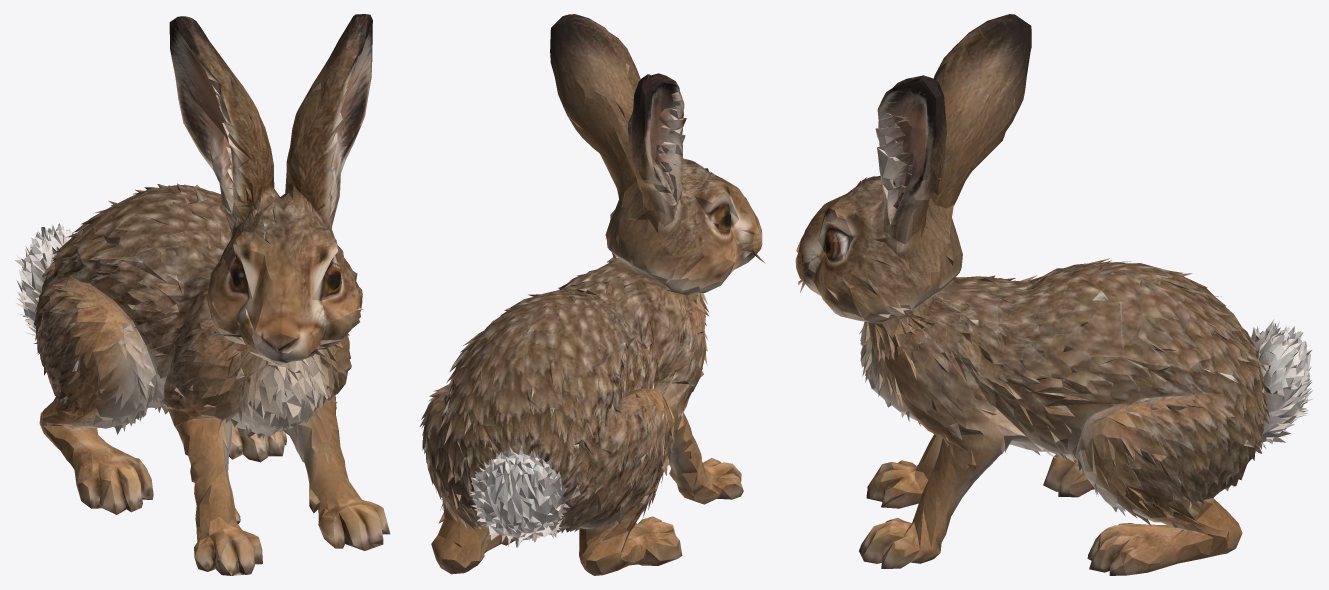
The model's file is tavsan.glb.
3 views of the same model, side by side, from view 1: azimuth 30°, elevation 25°; view 2: azimuth 150°, elevation 25°; view 3: azimuth 270°, elevation 25° (orthographic). The views are drawn at different scales.
Visible parts, largest first — view 1: output_unwrapped; view 2: output_unwrapped; view 3: output_unwrapped.
Part boxes in pixels (left/top/right/bottom): output_unwrapped: left=15, top=14, right=390, bottom=575; output_unwrapped: left=419, top=14, right=765, bottom=575; output_unwrapped: left=795, top=14, right=1313, bottom=575.
Size of the model in its own units: 0.9227 by 1.83 by 1.76.
Materials: 1 (1 with a texture image).
